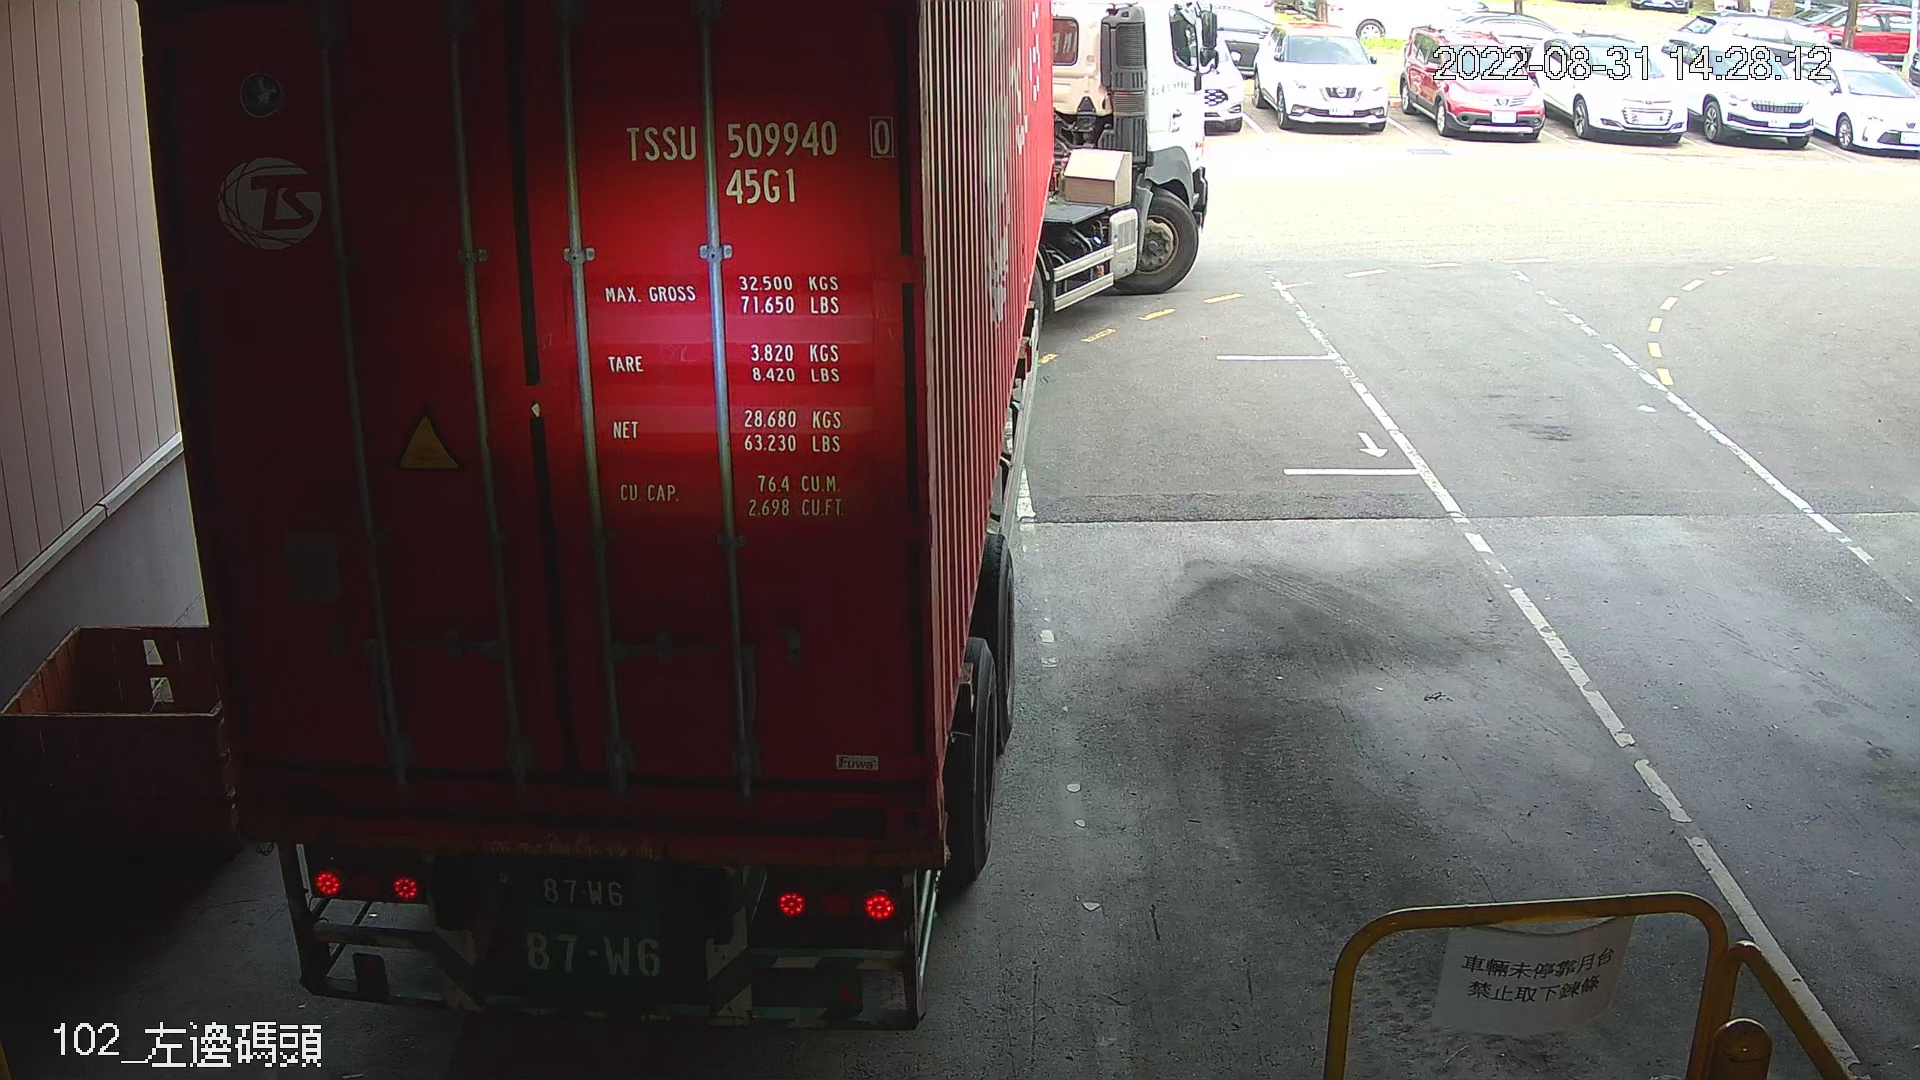container: (611, 104, 905, 214)
